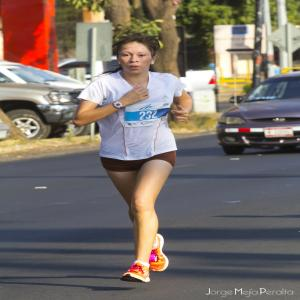Vehicle-registration-plate: (264, 127, 295, 139)
